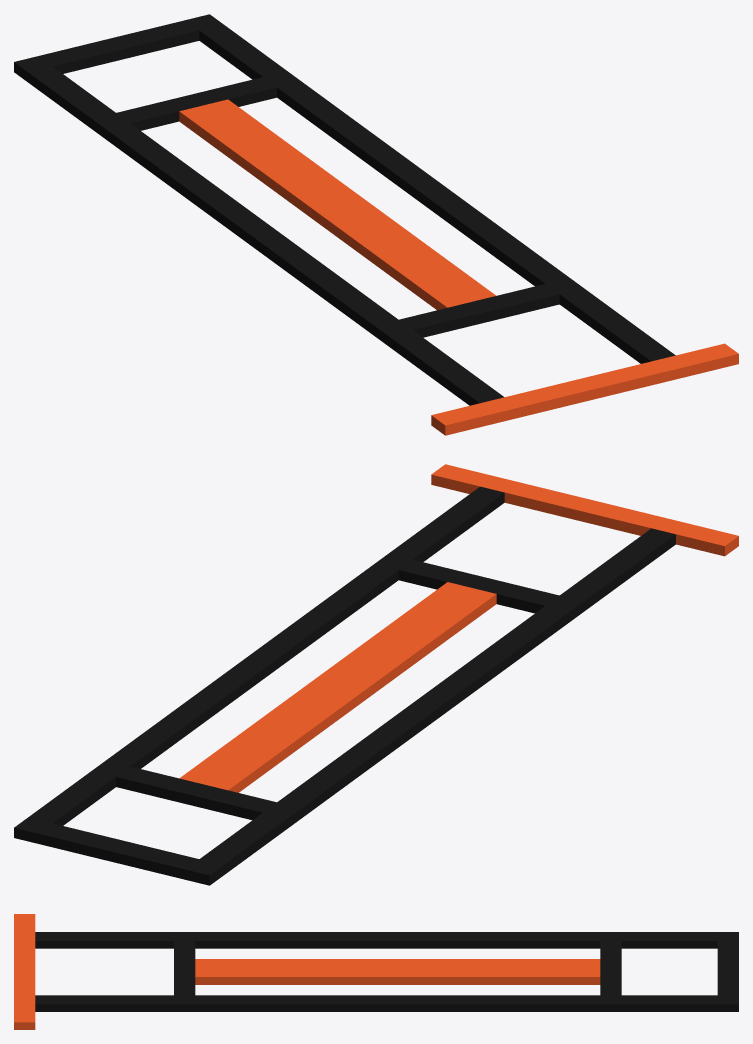
Rendered from Vehicle_Base.obj.
The picture shows the model from 3 angles, top to bottom: view 1: azimuth 30°, elevation 25°; view 2: azimuth 150°, elevation 25°; view 3: azimuth 270°, elevation 25°; orthographic projection. The views are drawn at different scales.
Visible parts, largest first — view 1: Vehicle_Base; view 2: Vehicle_Base; view 3: Vehicle_Base.
Part boxes in pixels (x1,y1,x2,y2): Vehicle_Base: (14,14,738,435); Vehicle_Base: (14,464,738,885); Vehicle_Base: (14,914,738,1029).
Bounding box in the file's own units: 0.6 × 0.02 × 1.7.
